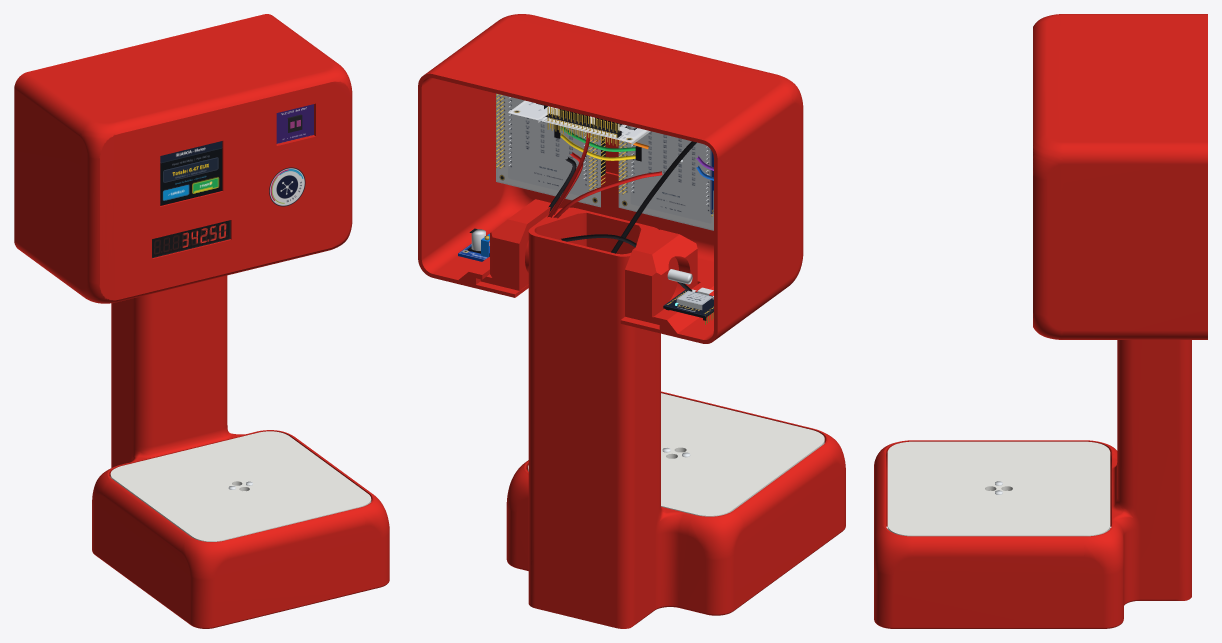
File: pondulo.glb
3 views of the same model, side by side, from view 1: azimuth 30°, elevation 25°; view 2: azimuth 150°, elevation 25°; view 3: azimuth 270°, elevation 25° (orthographic). The views are drawn at different scales.
Visible parts, largest first — view 1: head_shell, base_column, weighing_plate, tft_shield, seven_seg_display, tof_shield, nisc_badge; view 2: base_column, head_shell, weighing_plate, hinge_clamps, nucleo_tof, nucleo_display, wiring_head, nucleo_scale, esp8266_module, buck_converter; view 3: head_shell, base_column, weighing_plate.
Boxes of the visible parts, x1,y1,x2,y2 form: head_shell: (14,14,352,303); base_column: (92,275,389,628); weighing_plate: (110,431,371,541); tft_shield: (160,141,222,205); seven_seg_display: (152,220,230,258); tof_shield: (276,104,313,143); nisc_badge: (269,167,305,206); base_column: (506,207,845,628); head_shell: (418,14,803,343); weighing_plate: (528,393,824,516); hinge_clamps: (480,199,697,324); nucleo_tof: (496,93,605,207); nucleo_display: (618,131,713,230); wiring_head: (547,124,713,291); nucleo_scale: (508,100,650,146); esp8266_module: (663,287,713,324); buck_converter: (458,228,489,261); head_shell: (1033,14,1207,339); base_column: (874,340,1191,628); weighing_plate: (887,441,1110,536).
Size of the model in its own units: 2 by 3.31 by 2.
Materials: 45 (13 with a texture image).
